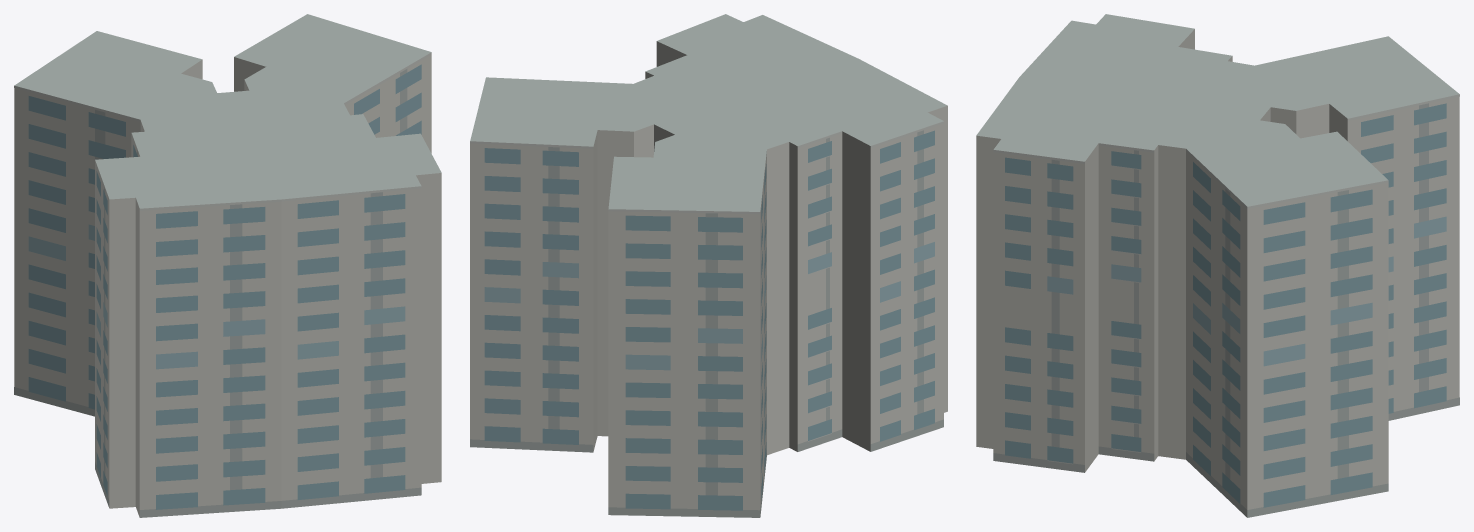
File: residential-f80761ac-e447-447f-aa23-c21452c98999.glb
3 views of the same model, side by side, from view 1: azimuth 30°, elevation 25°; view 2: azimuth 150°, elevation 25°; view 3: azimuth 270°, elevation 25° (orthographic).
Parts seen in each view (by area): view 1: residential-f80761ac-e447-447f-aa23-c21452c98999.tmp; view 2: residential-f80761ac-e447-447f-aa23-c21452c98999.tmp; view 3: residential-f80761ac-e447-447f-aa23-c21452c98999.tmp.
Boxes of the visible parts, left/top/right/bottom form: residential-f80761ac-e447-447f-aa23-c21452c98999.tmp: left=14, top=14, right=441, bottom=517; residential-f80761ac-e447-447f-aa23-c21452c98999.tmp: left=470, top=14, right=947, bottom=517; residential-f80761ac-e447-447f-aa23-c21452c98999.tmp: left=976, top=14, right=1459, bottom=517.
Size of the model in its own units: 43.87 by 33 by 46.5.
